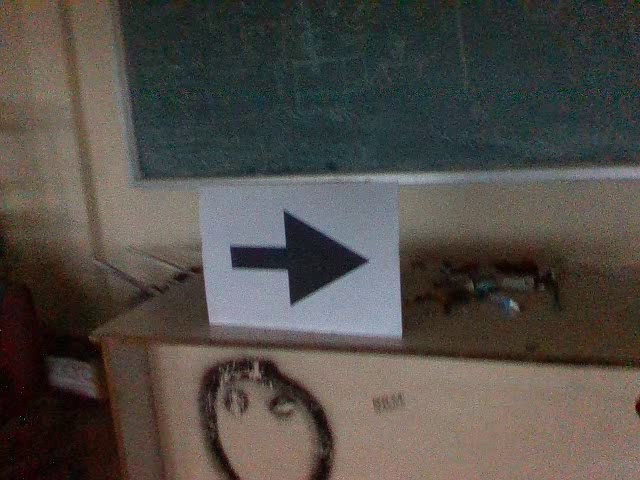Right: (221, 203, 377, 314)
